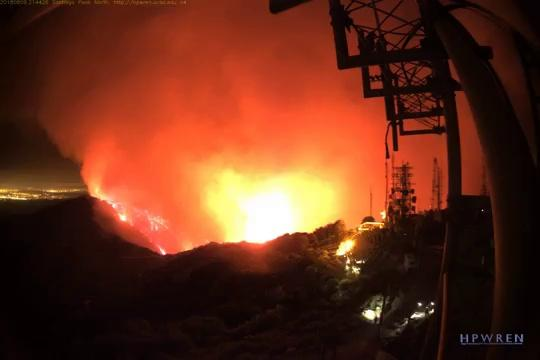fire: (221, 182, 325, 238)
